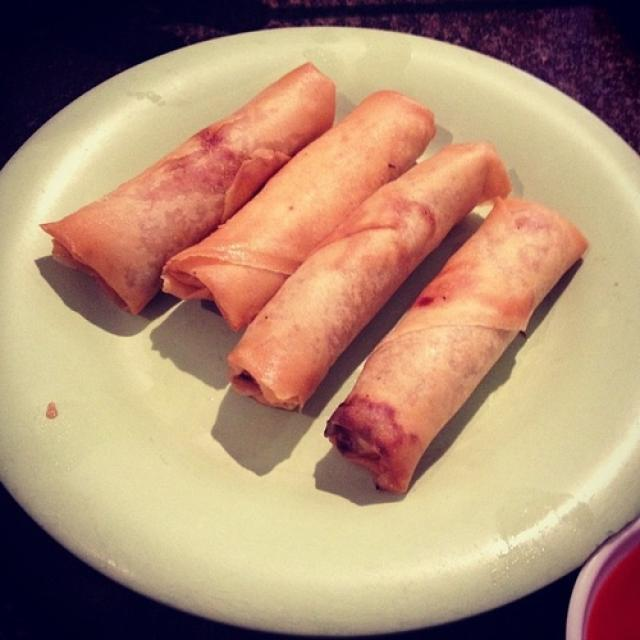炸货点心: (23, 32, 621, 589)
